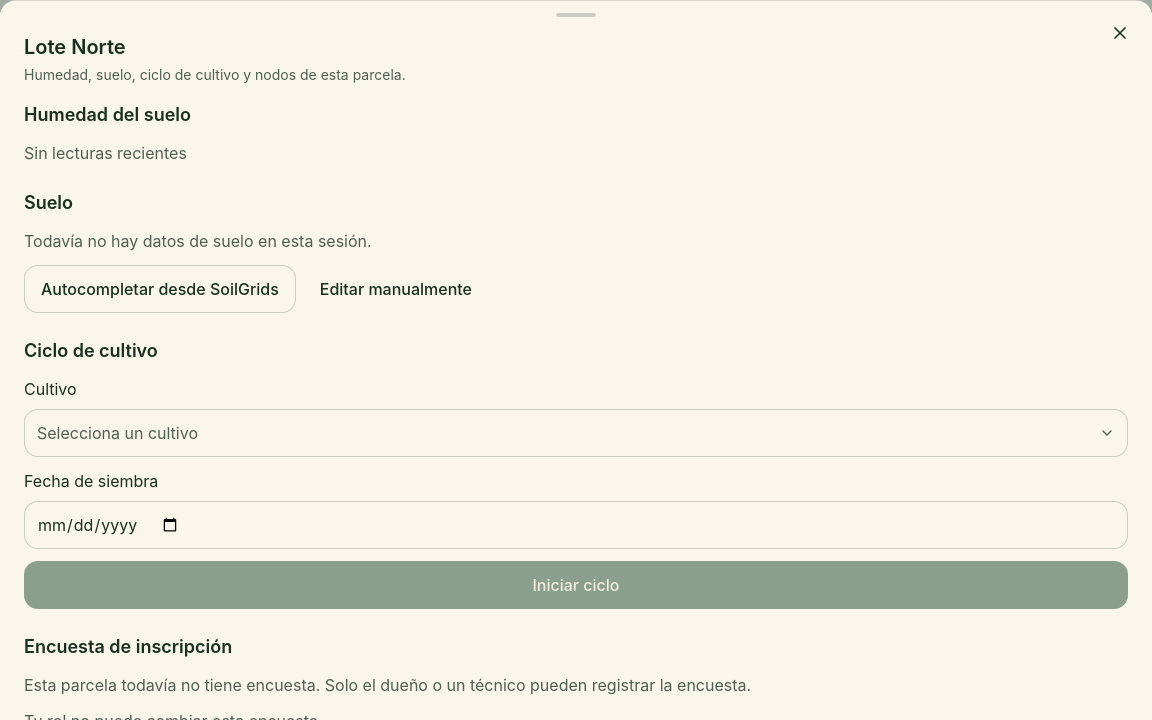
Scenario: PlotDetailSheet › shows general error copy for 502/503 on cycle PATCH, not SoilGrids copy
Click the dropdown. click: (118, 433)
box: [24,409,1128,457]
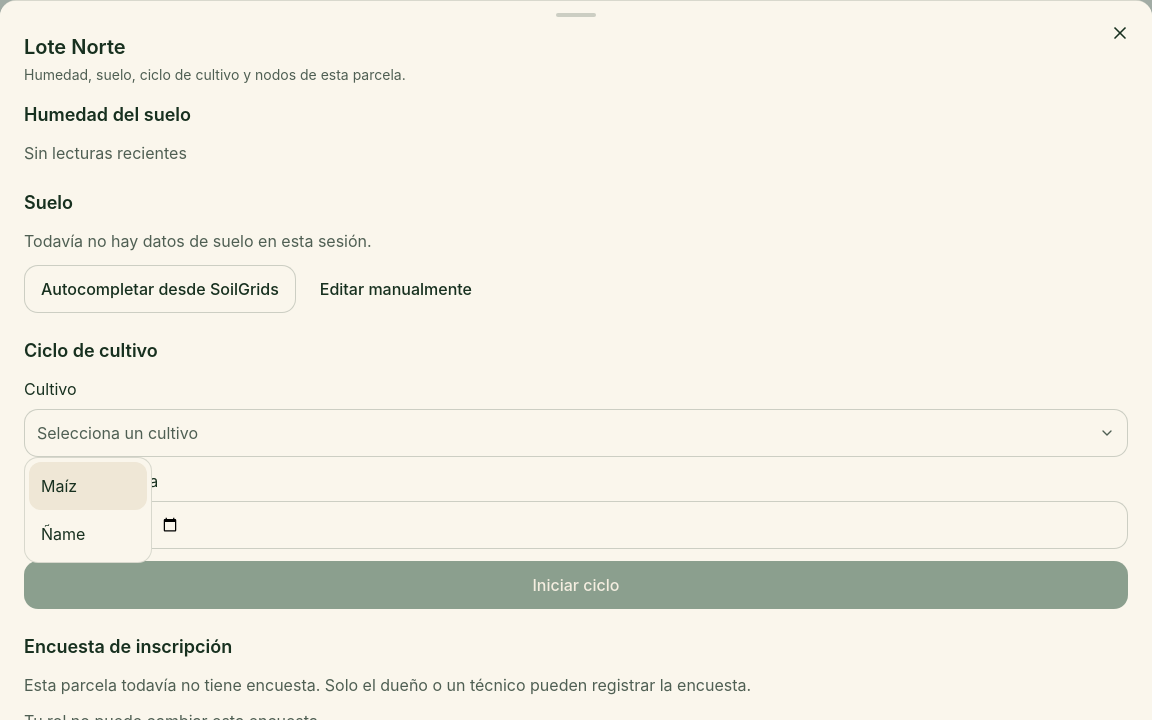
Click the option "Maíz". click: (88, 486)
box: [29,462,147,510]
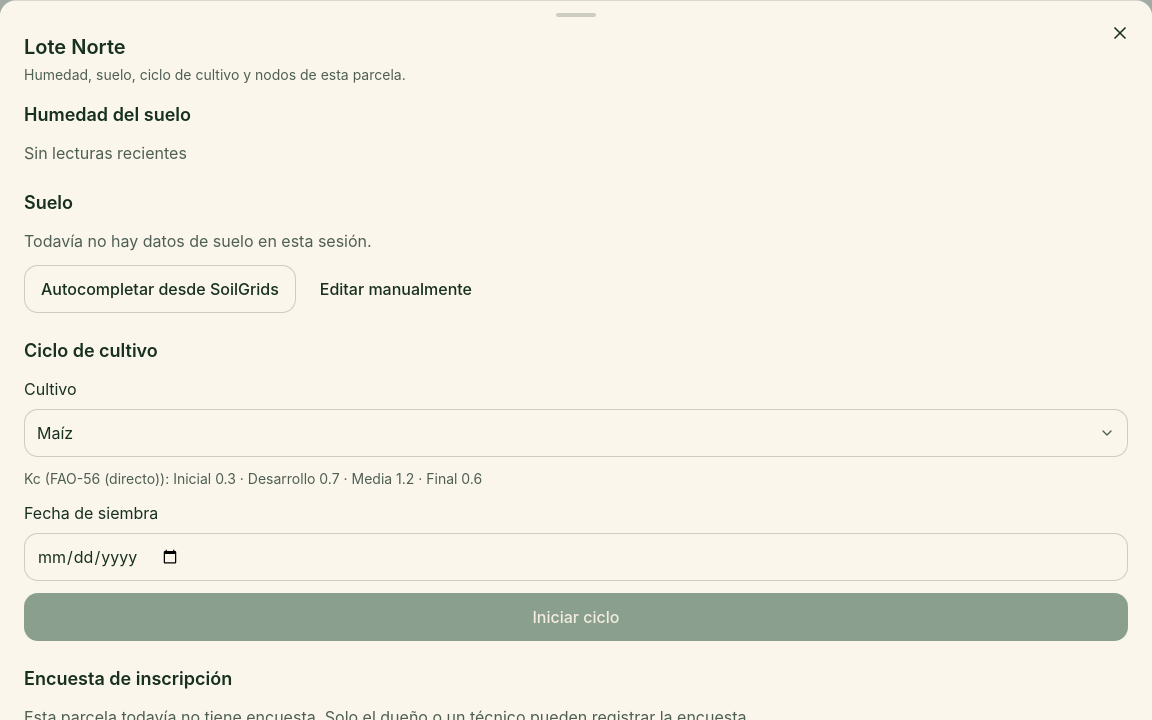
Type "2026-06-01" into the date field labelled "Fecha de siembra". click: (576, 557)
box: [24,533,1128,581]
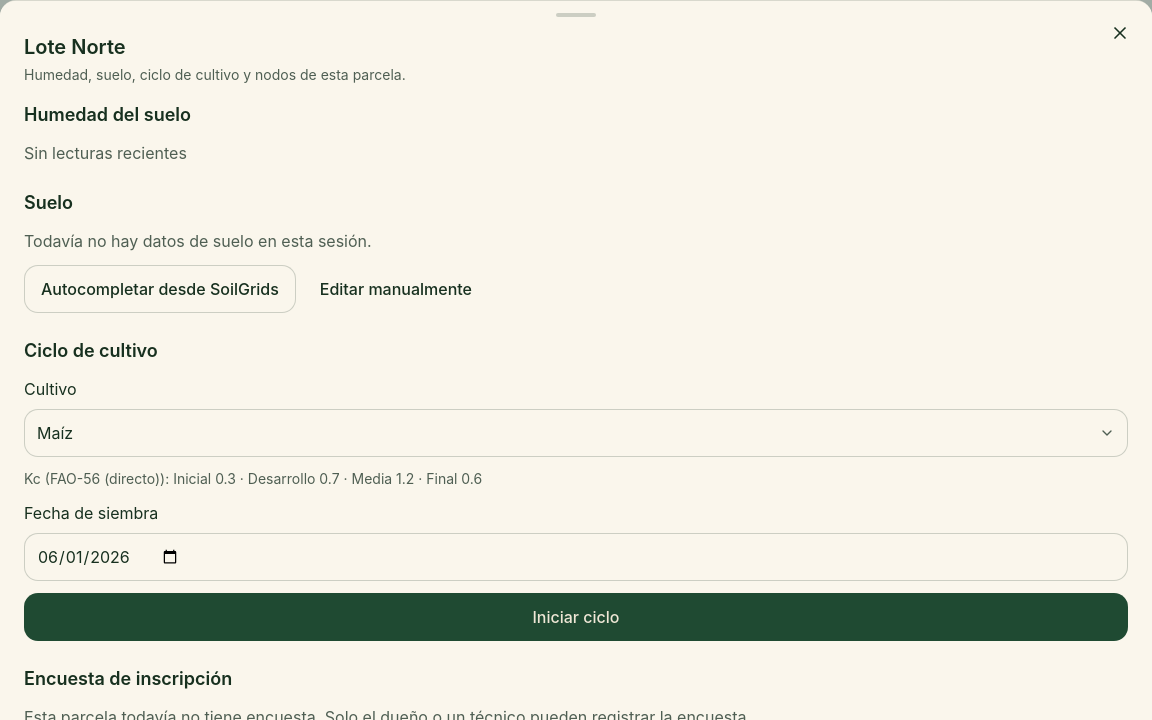
Click the button "Iniciar ciclo". click: (576, 617)
box: [24,593,1128,641]
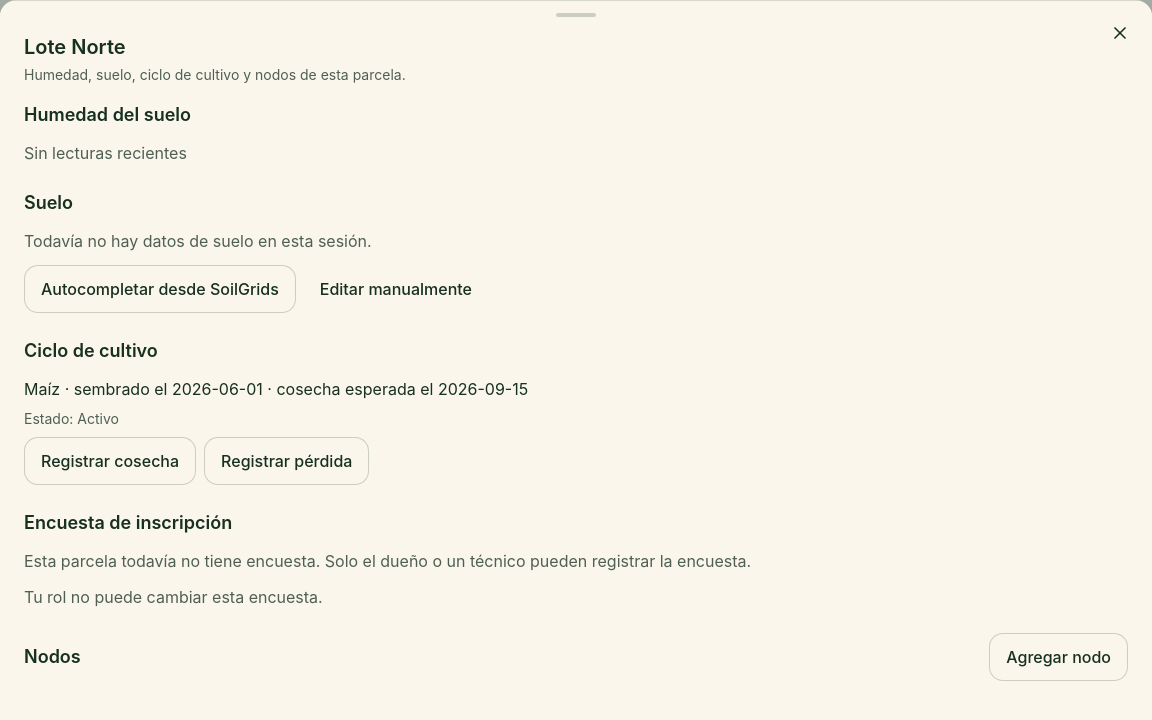
Now the text "Estado: Activo" is shown, box [24,410,119,427]
Click the button "Registrar cosecha". click: (110, 461)
box: [24,437,196,485]
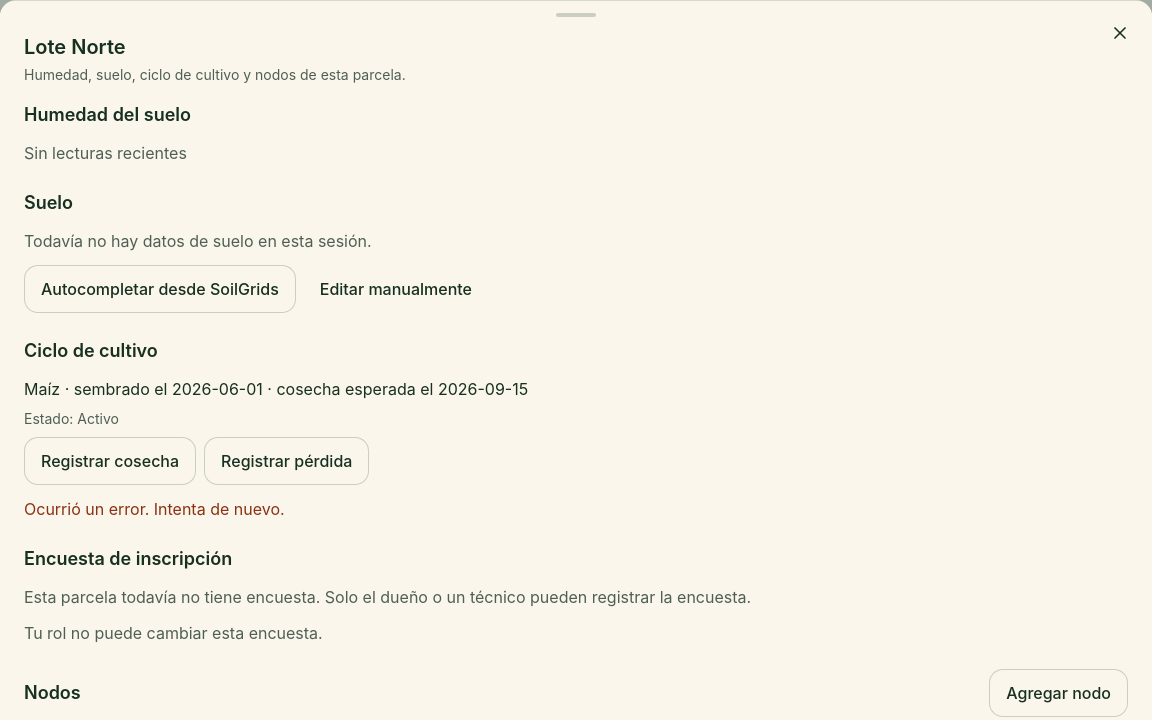
Now the text "Ocurrió un error. Intenta de nuevo." is shown, box [24,499,285,519]
